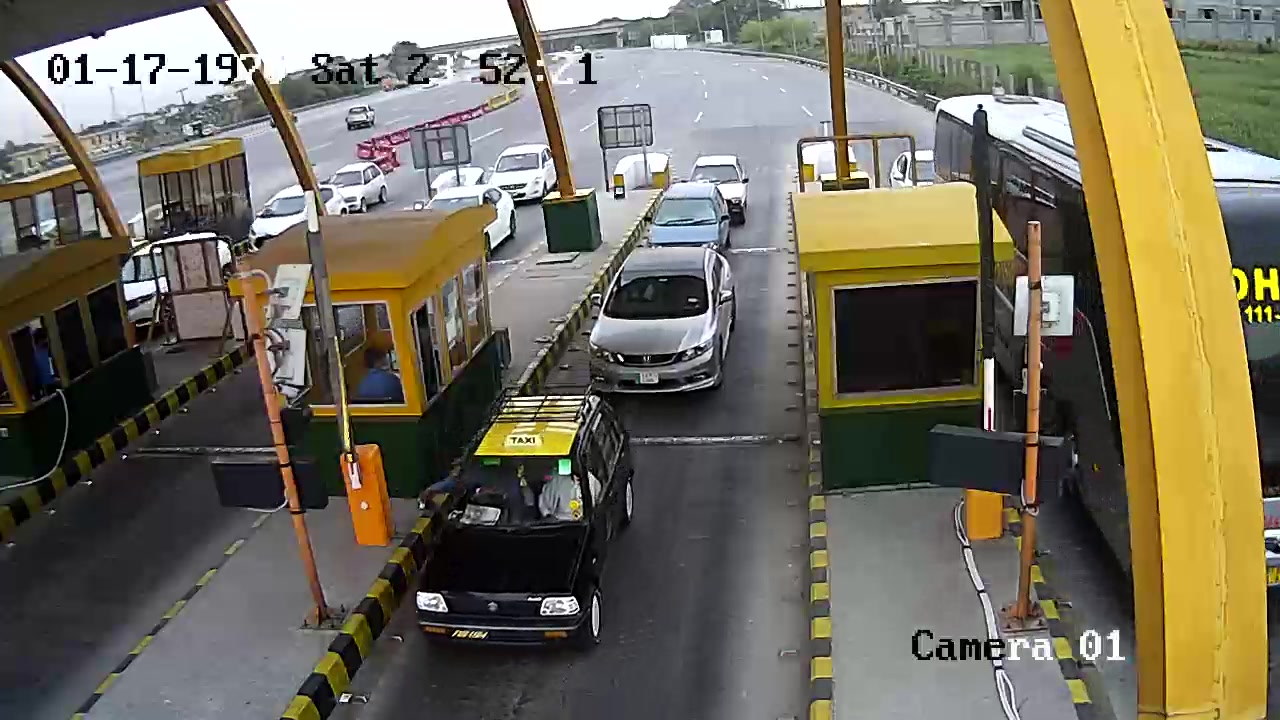F1: (413, 382, 651, 665)
